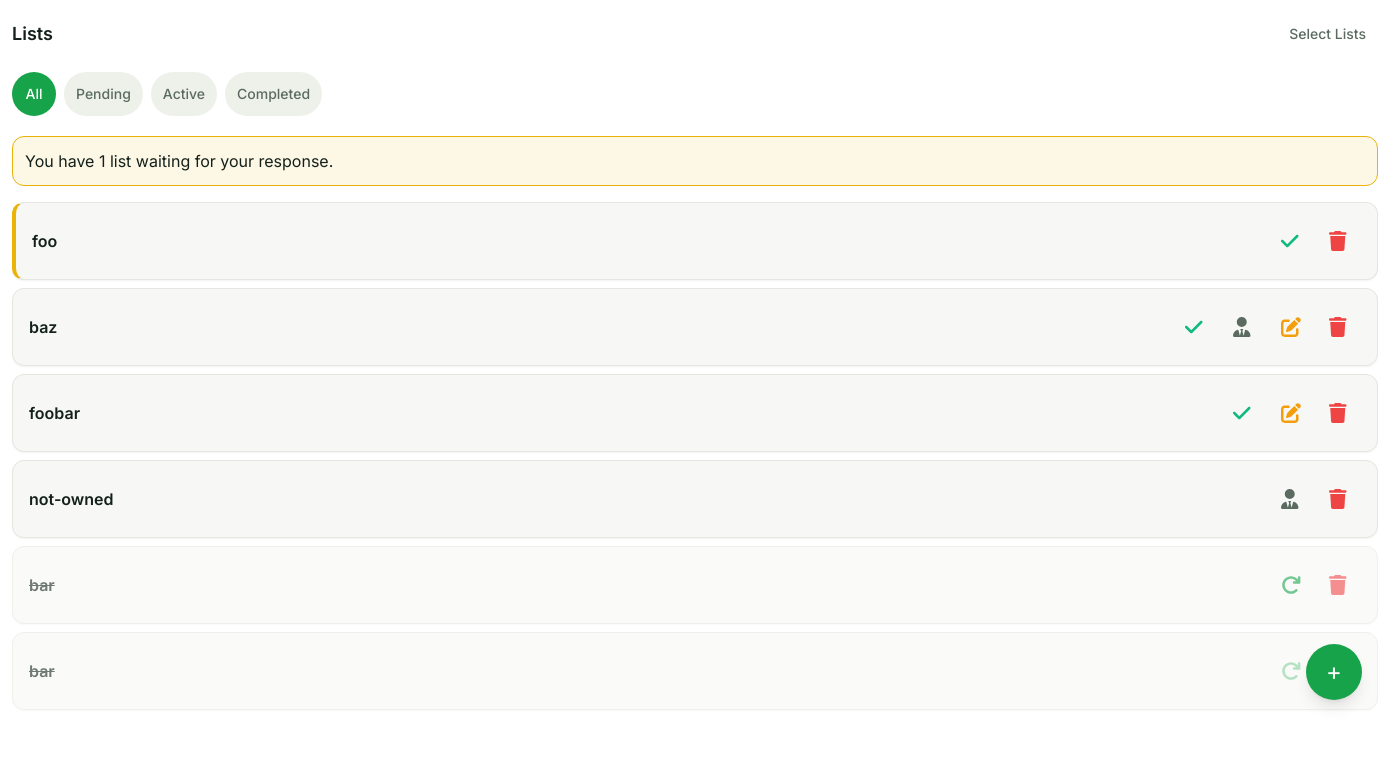
Test case: ListsContainer › filters to only pending lists when Pending chip is clicked
Click the button with test id "filter-pending": (103, 94) [64, 72, 143, 116]
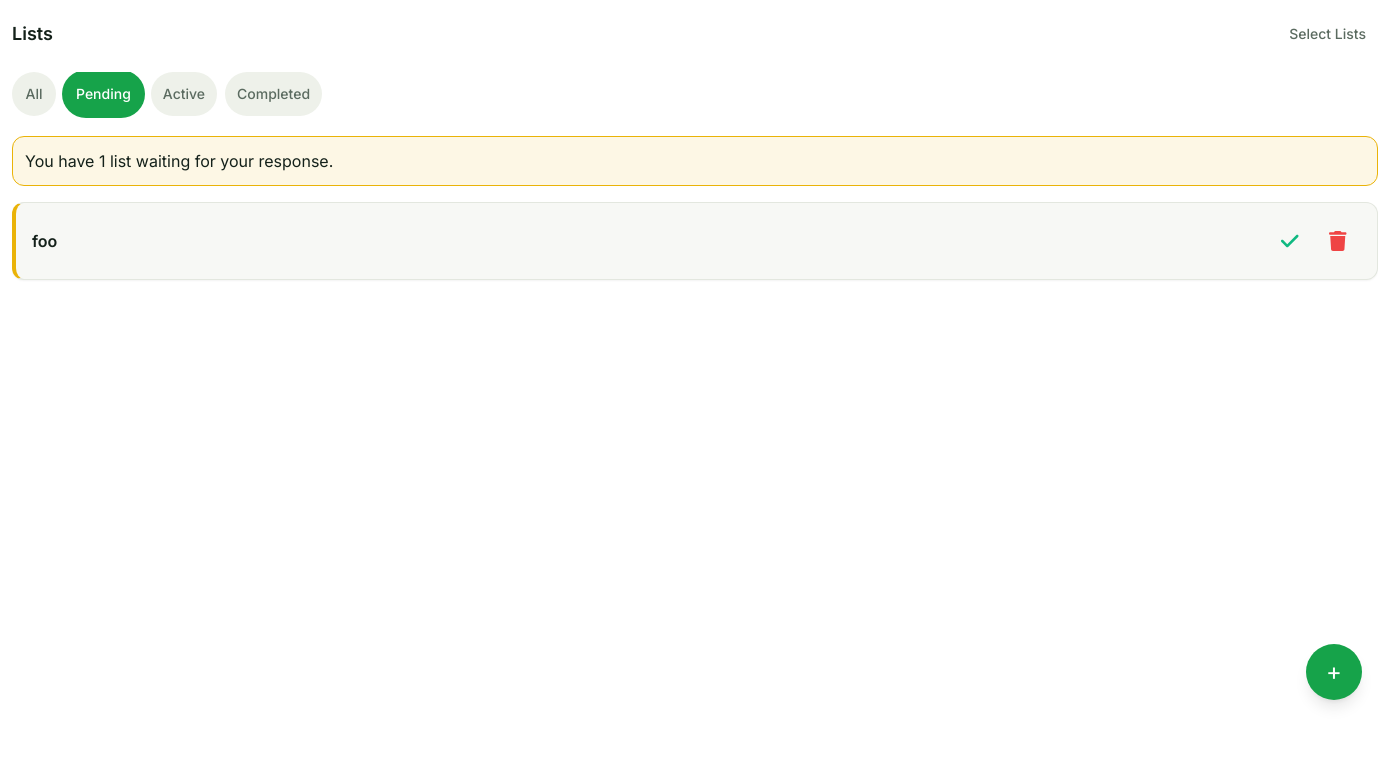
Expected: the button with test id "list-id-pending" is shown, [12, 202, 1378, 280]
Expected: the button with test id "list-id5" is gone
Expected: the button with test id "list-id2" is gone
